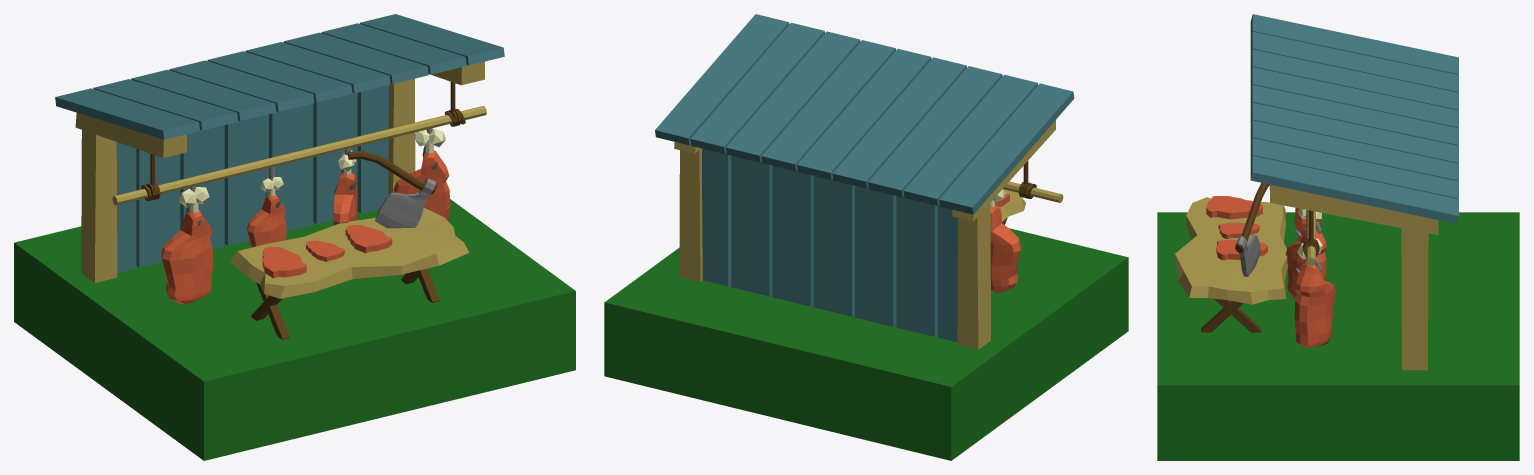
Rendered from kasap.fbx.
The picture shows the model from 3 angles, left to right: view 1: azimuth 30°, elevation 25°; view 2: azimuth 150°, elevation 25°; view 3: azimuth 270°, elevation 25°; orthographic projection. The views are drawn at different scales.
Visible parts, largest first — view 1: Plane, Cube, Cube.002, Cube.003, Cube.005, Cylinder, Plane.001, Cylinder.004, Plane.008, Plane.006, Plane.009, Plane.007 (+3 smaller); view 2: Plane, Cube, Cube.002, Cube.003, Plane.001; view 3: Plane, Cube, Cube.005, Cube.003, Plane.008, Plane.007, Plane.009, Cylinder.004, Cylinder.003, Plane.011, Cube.007, Plane.010 (+1 smaller).
Part boxes in pixels (left/top/right/bottom): Plane: left=14, top=199, right=575, bottom=460; Cube: left=55, top=14, right=504, bottom=139; Cube.002: left=116, top=85, right=388, bottom=272; Cube.003: left=75, top=61, right=484, bottom=282; Cube.005: left=230, top=208, right=469, bottom=298; Cylinder: left=112, top=106, right=486, bottom=205; Plane.001: left=161, top=209, right=213, bottom=304; Cylinder.004: left=375, top=178, right=436, bottom=228; Plane.008: left=393, top=150, right=450, bottom=220; Plane.006: left=247, top=194, right=286, bottom=247; Plane.009: left=262, top=246, right=306, bottom=278; Plane.007: left=333, top=172, right=357, bottom=225; Plane: left=604, top=228, right=1128, bottom=460; Cube: left=655, top=14, right=1074, bottom=214; Cube.002: left=702, top=148, right=957, bottom=342; Cube.003: left=674, top=120, right=1055, bottom=349; Plane.001: left=990, top=204, right=1021, bottom=293; Plane: left=1157, top=212, right=1519, bottom=460; Cube: left=1250, top=14, right=1458, bottom=223; Cube.005: left=1175, top=197, right=1287, bottom=304; Cube.003: left=1269, top=184, right=1438, bottom=370; Plane.008: left=1294, top=262, right=1335, bottom=347; Plane.007: left=1285, top=227, right=1326, bottom=298; Plane.009: left=1206, top=196, right=1262, bottom=219; Cylinder.004: left=1235, top=234, right=1260, bottom=276; Cylinder.003: left=1235, top=183, right=1269, bottom=253; Plane.011: left=1216, top=239, right=1267, bottom=260; Cube.007: left=1214, top=298, right=1261, bottom=332; Plane.010: left=1218, top=222, right=1259, bottom=238.
Bounding box in the file's own units: 537 × 393 × 465.
